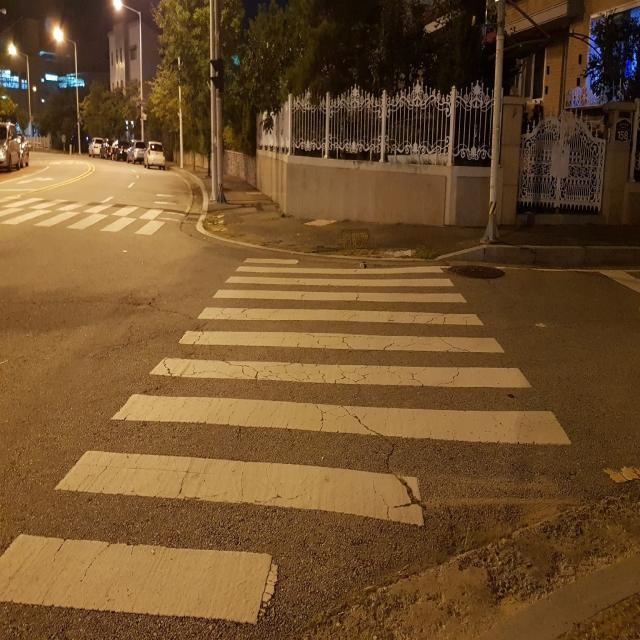횡단보도: (0, 255, 574, 629), (2, 194, 172, 234)
